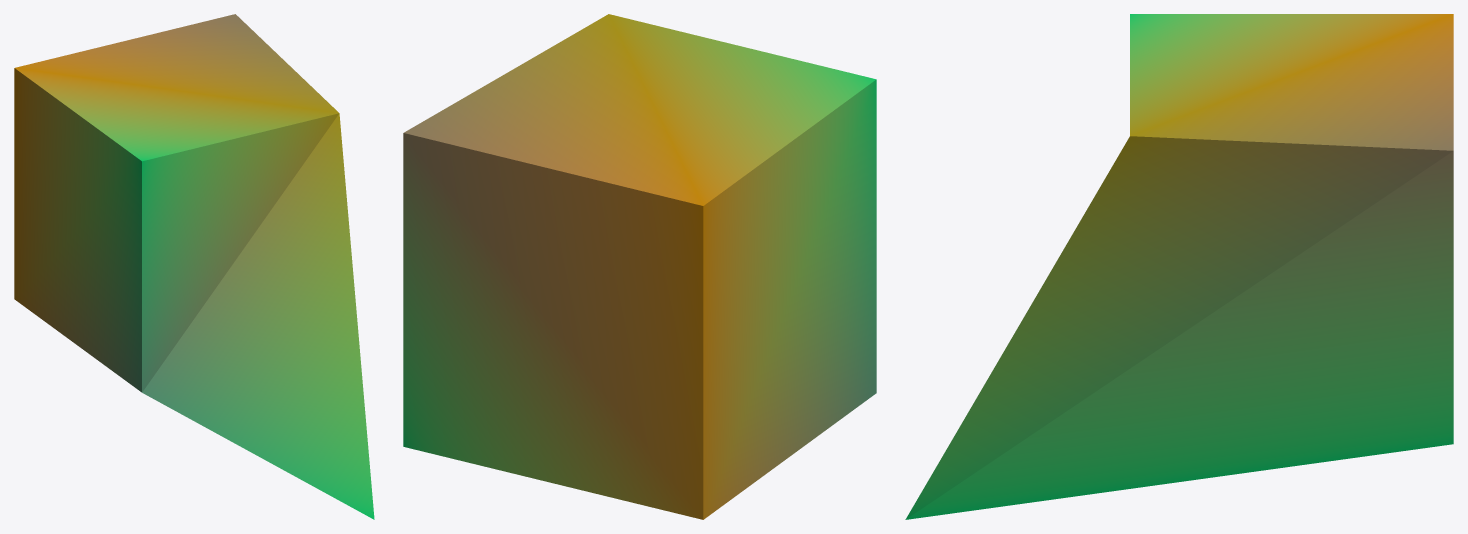
Rendered from cubencvx.dae.
3 views of the same model, side by side, from view 1: azimuth 30°, elevation 25°; view 2: azimuth 150°, elevation 25°; view 3: azimuth 270°, elevation 25° (orthographic). The views are drawn at different scales.
Visible parts, largest first — view 1: node; view 2: node; view 3: node.
Part boxes in pixels (x1,y1,x2,y2): node: (14, 14, 374, 519); node: (403, 14, 876, 519); node: (905, 14, 1453, 519).
Bounding box in the file's own units: 1.05 × 1.49 × 1.77.
